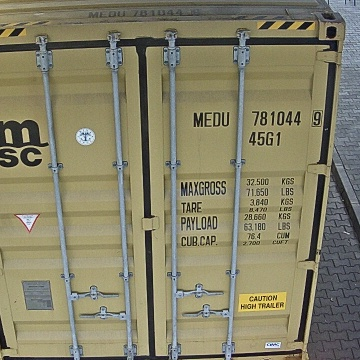serial_id: (193, 111, 320, 127)
